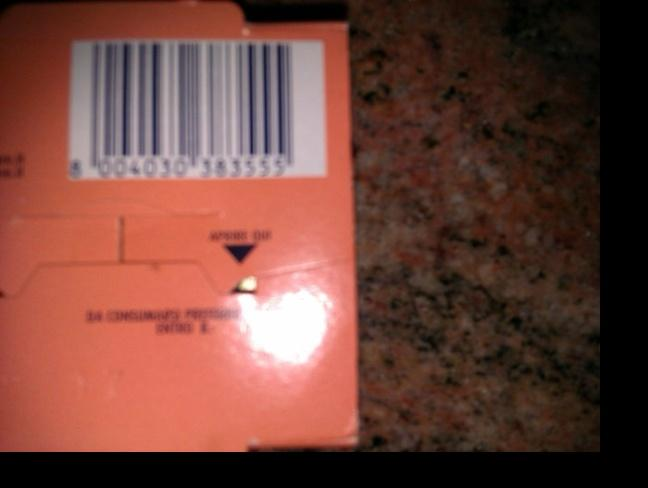Barcode: (67, 40, 323, 176)
